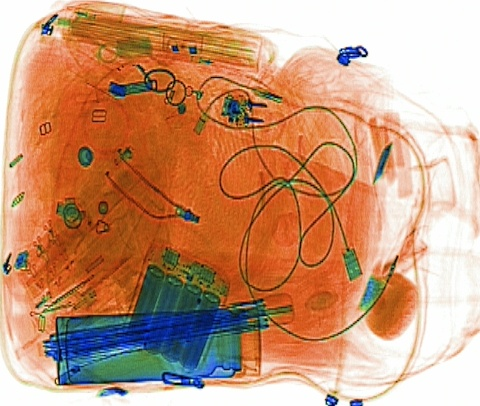powerbank: (119, 237, 230, 373)
